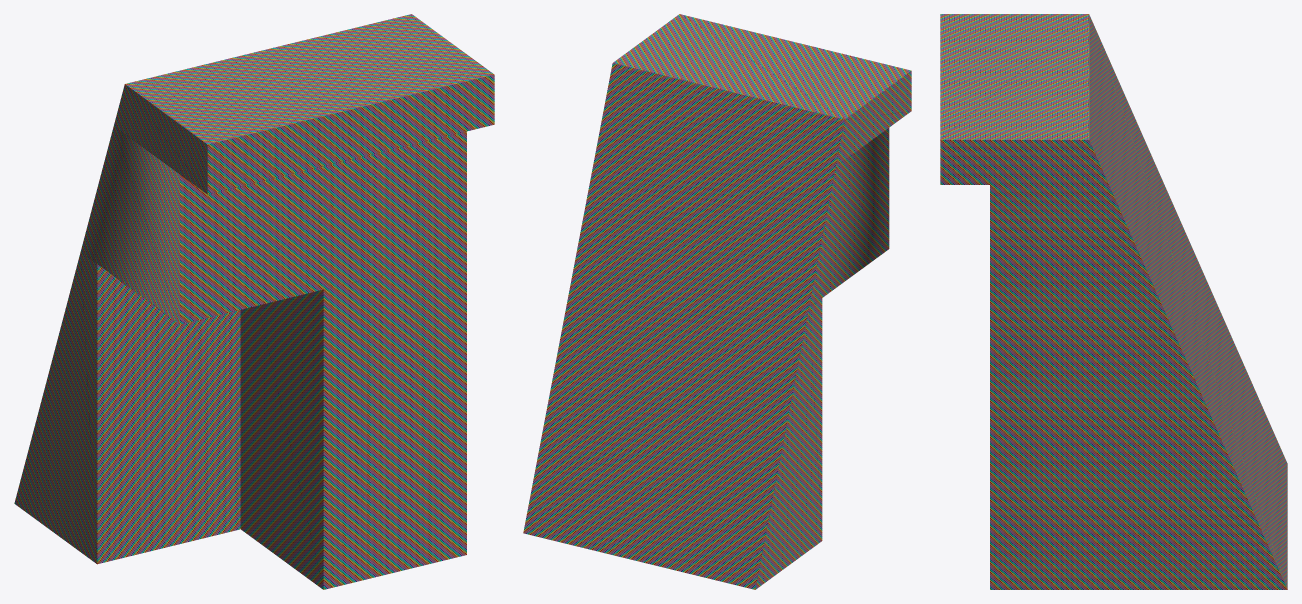
The model's file is Elements_Geometry_Csg.glb.
3 views of the same model, side by side, from view 1: azimuth 30°, elevation 25°; view 2: azimuth 150°, elevation 25°; view 3: azimuth 270°, elevation 25° (orthographic). The views are drawn at different scales.
Parts seen in each view (by area): view 1: 9c85accc-b6f9-4baa-99b7-77f961b33a7f_mesh; view 2: 9c85accc-b6f9-4baa-99b7-77f961b33a7f_mesh; view 3: 9c85accc-b6f9-4baa-99b7-77f961b33a7f_mesh.
Part boxes in pixels (left/top/right/bottom): 9c85accc-b6f9-4baa-99b7-77f961b33a7f_mesh: left=14, top=14, right=494, bottom=589; 9c85accc-b6f9-4baa-99b7-77f961b33a7f_mesh: left=523, top=14, right=911, bottom=589; 9c85accc-b6f9-4baa-99b7-77f961b33a7f_mesh: left=940, top=14, right=1287, bottom=589.
Size of the model in its own units: 30 by 50 by 35.
1 material, 1 textured.
